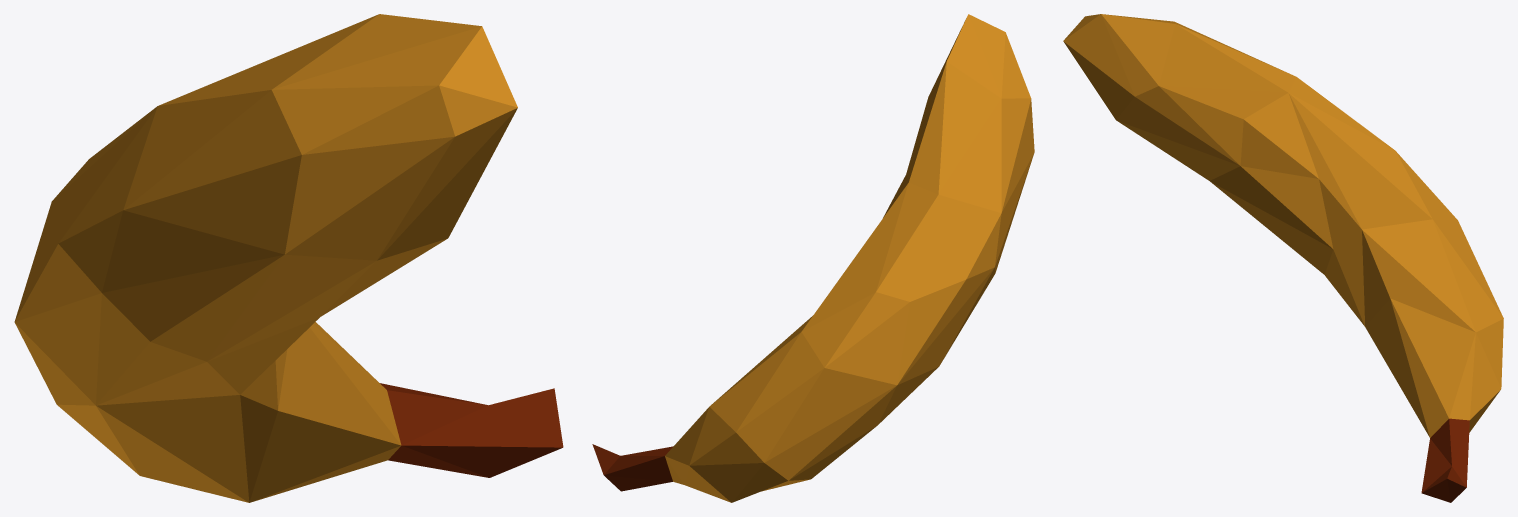
File: banana.obj
3 views of the same model, side by side, from view 1: azimuth 30°, elevation 25°; view 2: azimuth 150°, elevation 25°; view 3: azimuth 270°, elevation 25° (orthographic). The views are drawn at different scales.
Parts seen in each view (by area): view 1: Banana_Scan; view 2: Banana_Scan; view 3: Banana_Scan.
Part boxes in pixels (x1=…): Banana_Scan: x1=14, y1=14, x2=563, y2=502; Banana_Scan: x1=592, y1=14, x2=1034, y2=502; Banana_Scan: x1=1063, y1=14, x2=1503, y2=502.
Size of the model in its own units: 9.99 by 11.98 by 11.91.
